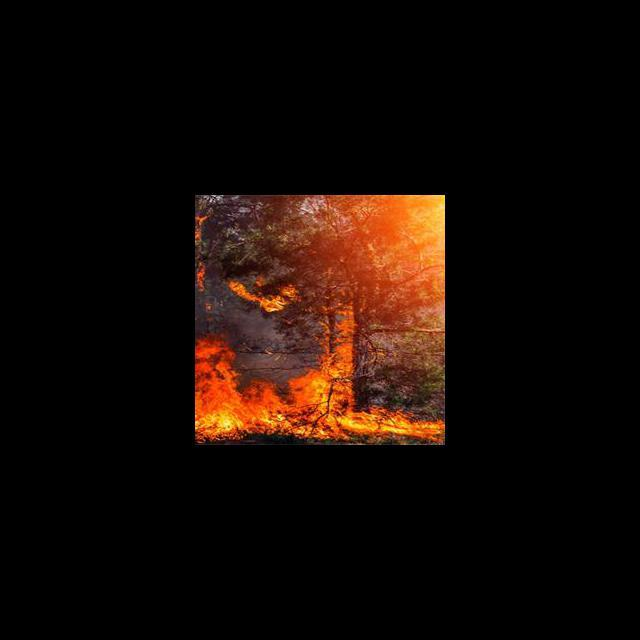Fire: (196, 312, 445, 444), (230, 277, 304, 312), (195, 262, 209, 292), (196, 215, 210, 242)
